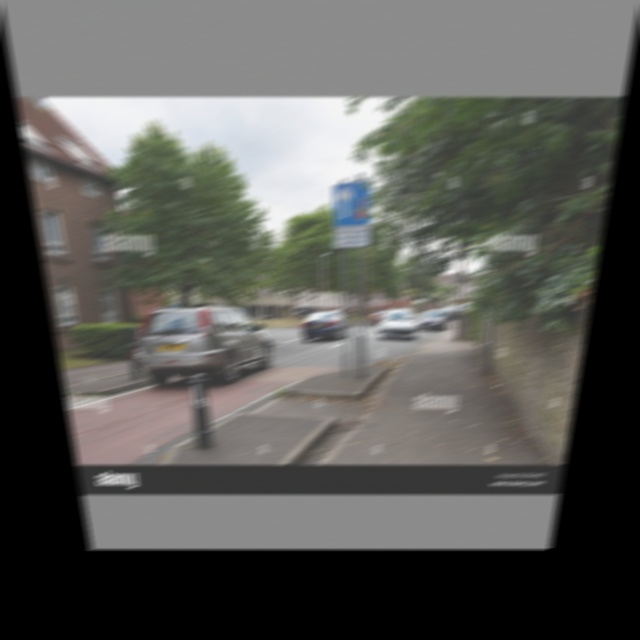Priority_for_Oncoming_Traffic: (333, 181, 372, 226)
